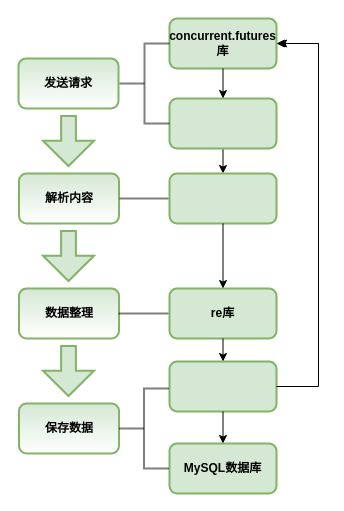
This 344x511 diagram has some shape labels left out. Here are the shapes that lost their labels. From the top down, the centre of each, then its label:
pixel 222 123: requests库
pixel 222 198: Beautifulsoup库
pixel 222 386: Redis数据库
